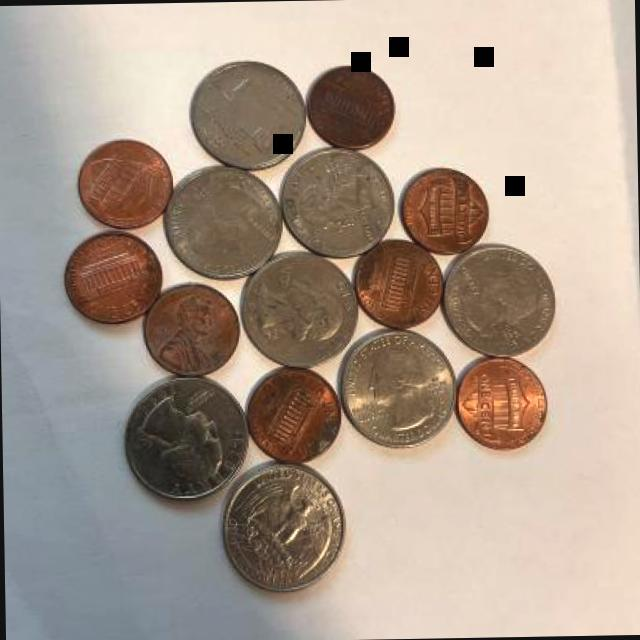Penny: (62, 225, 166, 328), (243, 365, 346, 468), (140, 282, 246, 382), (456, 354, 548, 452), (78, 136, 174, 228), (399, 162, 489, 255), (354, 238, 442, 330), (307, 65, 394, 150)
Quarter: (220, 463, 352, 596), (122, 372, 248, 502), (337, 325, 461, 449), (165, 161, 282, 285), (240, 248, 356, 372), (240, 250, 360, 366), (186, 57, 308, 166), (443, 240, 555, 358), (284, 147, 396, 256)
